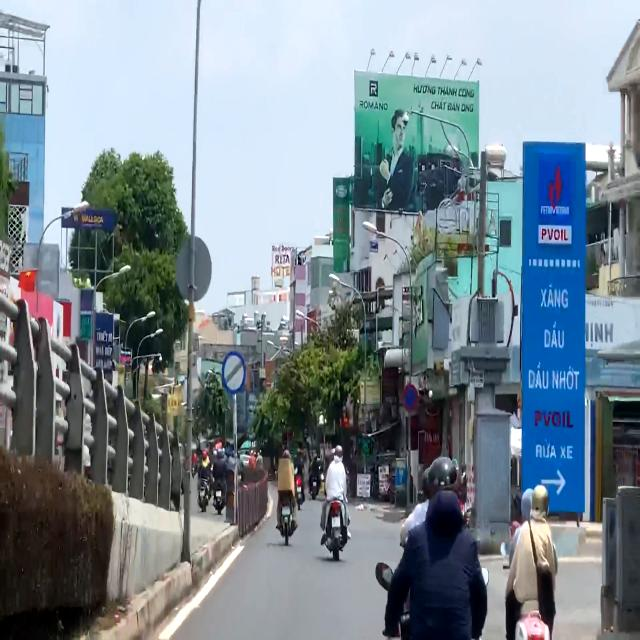DP.135: (221, 351, 246, 395)
P.131a: (403, 384, 418, 412)
